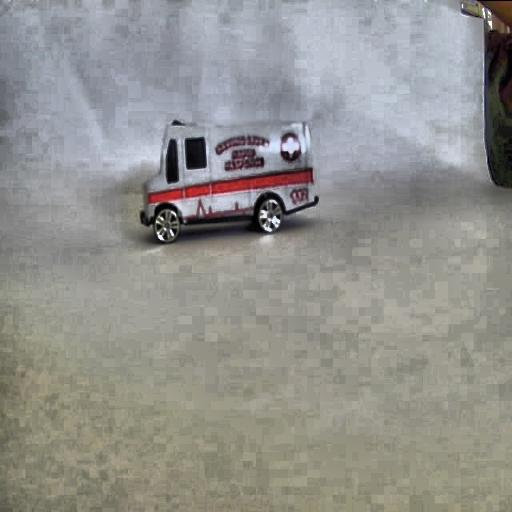ambulance: (140, 118, 318, 244)
